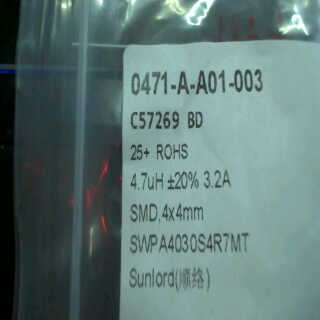4.7uH: (128, 168, 168, 195)
